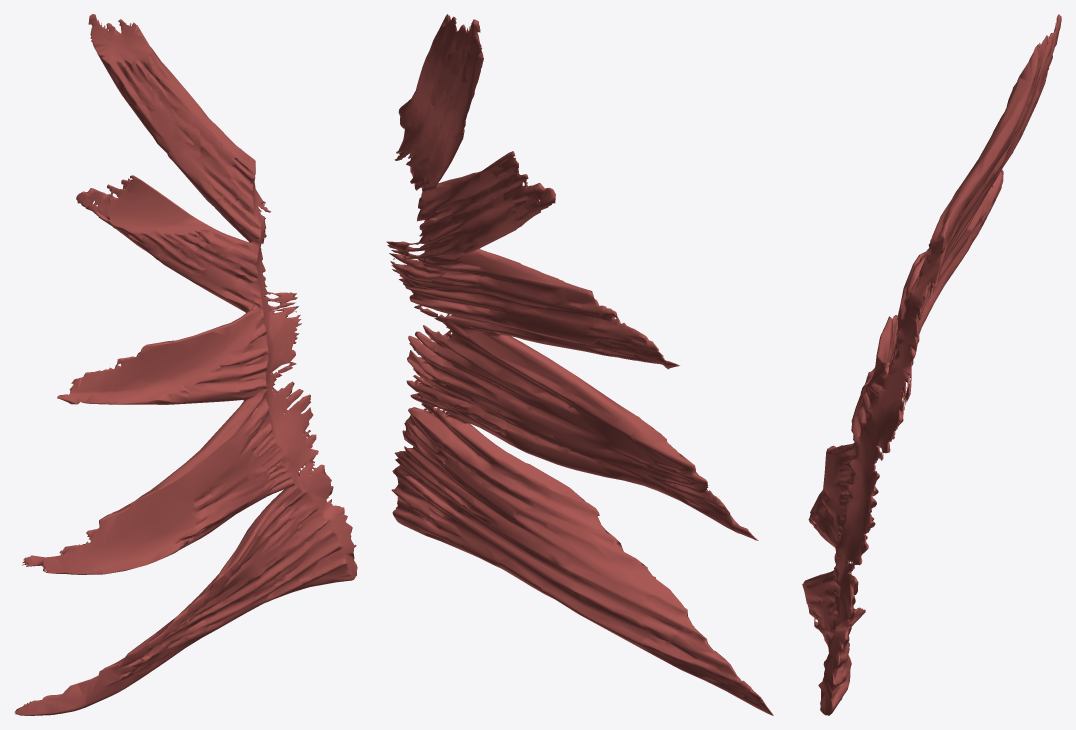
File: FMA9761.glb
3 renders of one model, left to right at view 1: azimuth 30°, elevation 25°; view 2: azimuth 150°, elevation 25°; view 3: azimuth 270°, elevation 25°, orthographic. The views are drawn at different scales.
Visible parts, largest first — view 1: FMA9761; view 2: FMA9761; view 3: FMA9761.
Boxes of the visible parts, <box> form: FMA9761: <box>14,14,357,715</box>; FMA9761: <box>386,14,773,715</box>; FMA9761: <box>802,14,1061,715</box>.
Size of the model in its own units: 0.0828 by 0.1445 by 0.0491.
